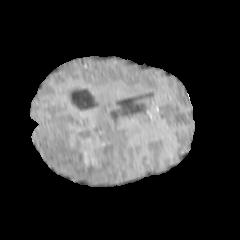glioma: (39, 107, 128, 181)
